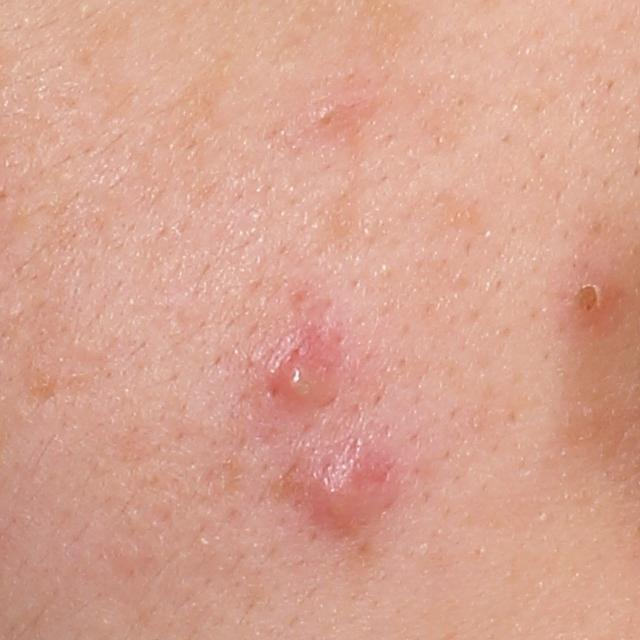papule: (287, 442, 377, 537)
